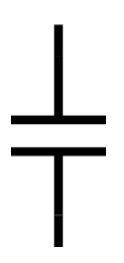Capacitor: (4, 97, 109, 171)
